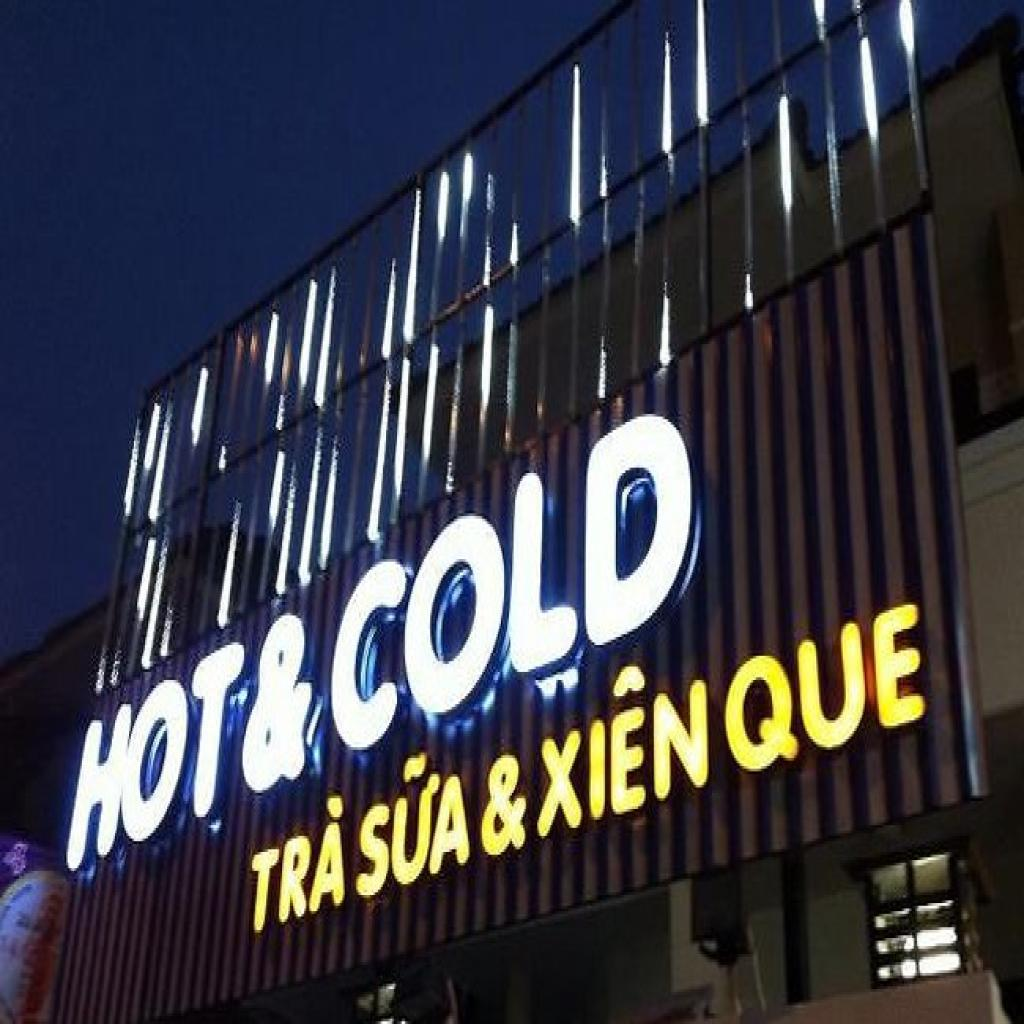text: (321, 371, 706, 777), (63, 626, 251, 876), (532, 637, 710, 849), (354, 742, 472, 908), (239, 788, 350, 944), (240, 586, 318, 801), (480, 745, 532, 868)
